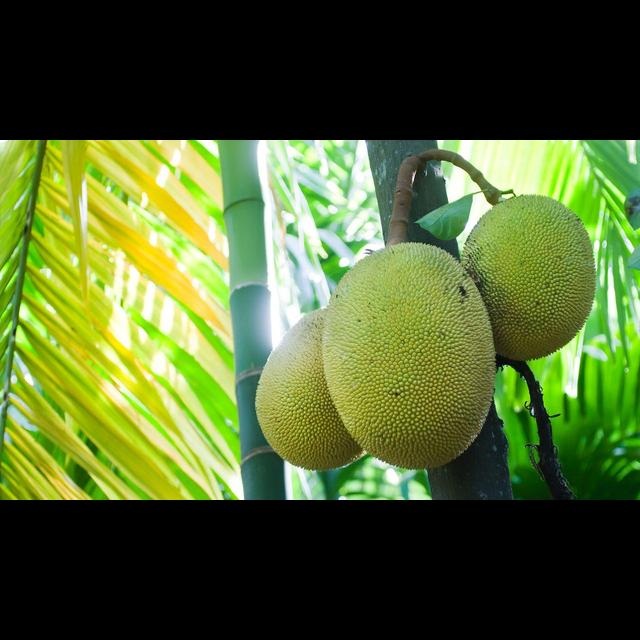mit: (320, 240, 499, 471), (460, 192, 595, 362), (256, 307, 354, 471)
